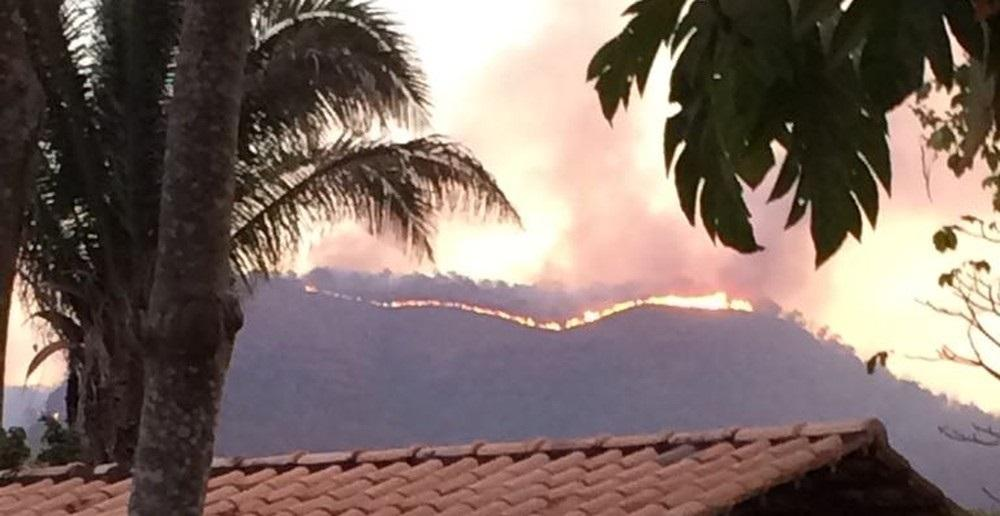Fire: (292, 263, 763, 344)
